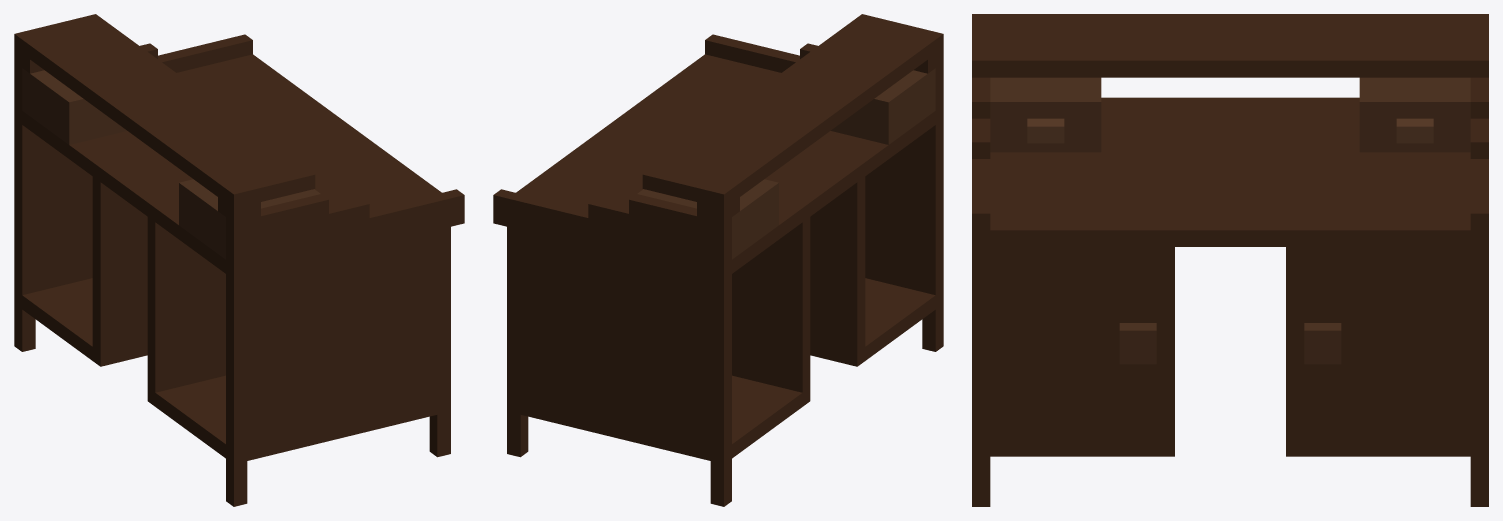
The model's file is PISstol.obj.
3 renders of one model, left to right at view 1: azimuth 30°, elevation 25°; view 2: azimuth 150°, elevation 25°; view 3: azimuth 270°, elevation 25°, orthographic. The views are drawn at different scales.
Parts seen in each view (by area): view 1: PISstol; view 2: PISstol; view 3: PISstol.
Part boxes in pixels (x1=…): PISstol: x1=14, y1=14, x2=464, y2=506; PISstol: x1=493, y1=14, x2=943, y2=506; PISstol: x1=972, y1=14, x2=1488, y2=506.
Size of the model in its own units: 1.7 by 2.2 by 2.8.
1 material, 1 textured.
